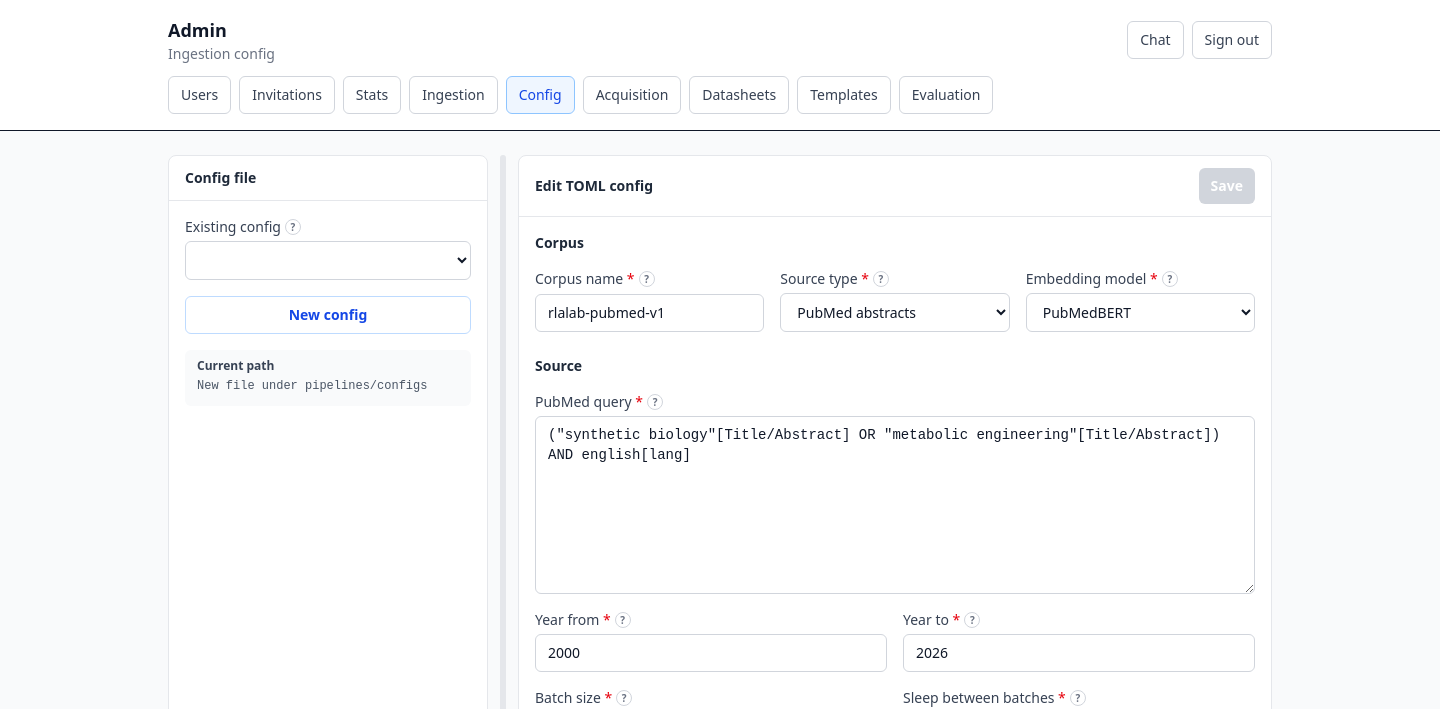
Test: AdminIngestionConfigClient › shows discovery search terms when the discovery source is selected
This screenshot has width=1440, height=709.
Step 1. Select "Multi-source discovery search" in the dropdown labelled "Source type * ?" → {"x": 895, "y": 312}, box [780, 293, 1010, 332]
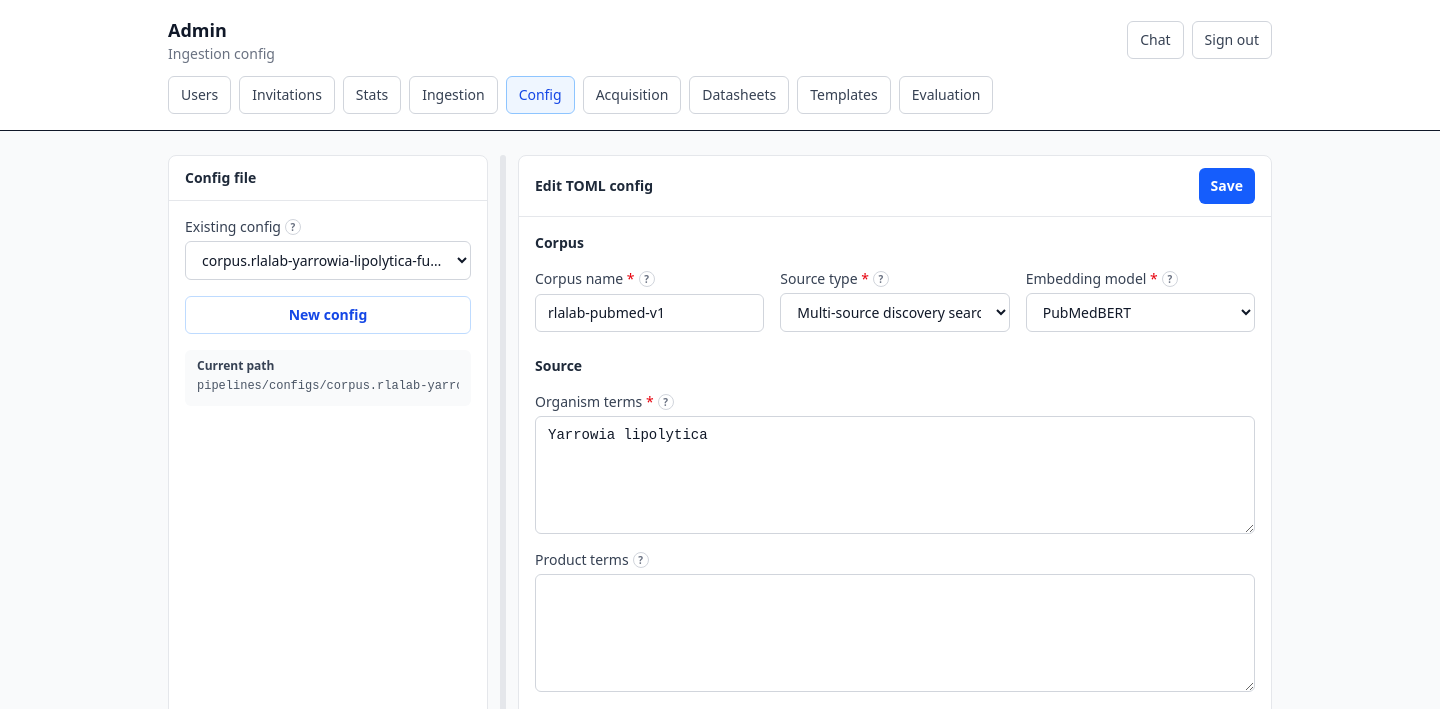
Result: the text "Organism terms" is shown at [535, 392, 642, 411]
Result: the text "Product terms" is shown at [535, 550, 629, 570]
Result: the text "PubMed query" is gone
